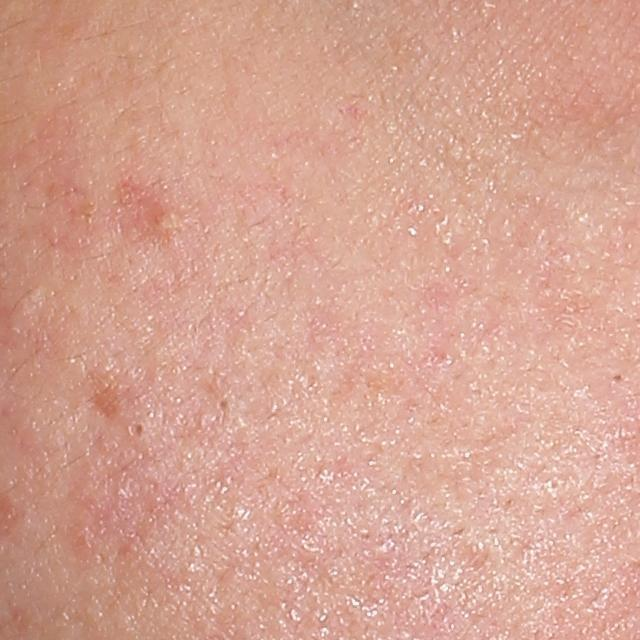comedo: (122, 412, 154, 448)
